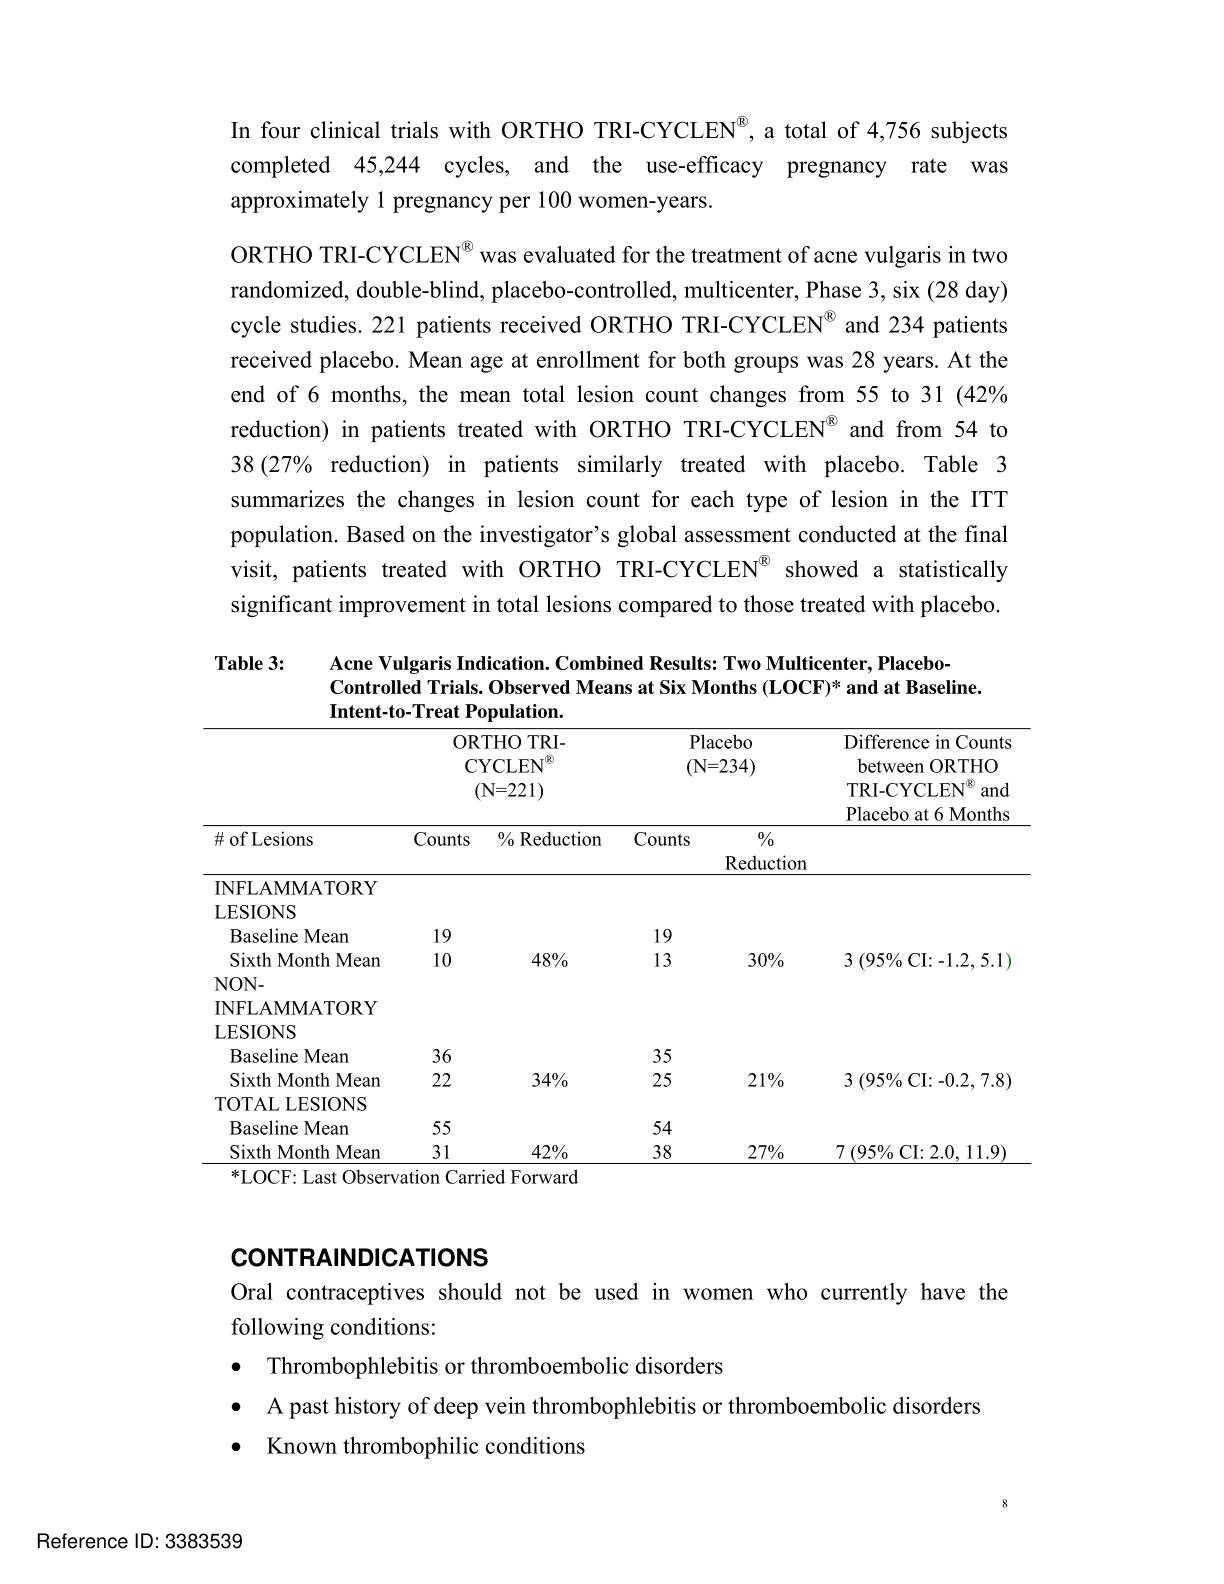partial_lined_merged_cells: (201, 726, 1038, 1167)
